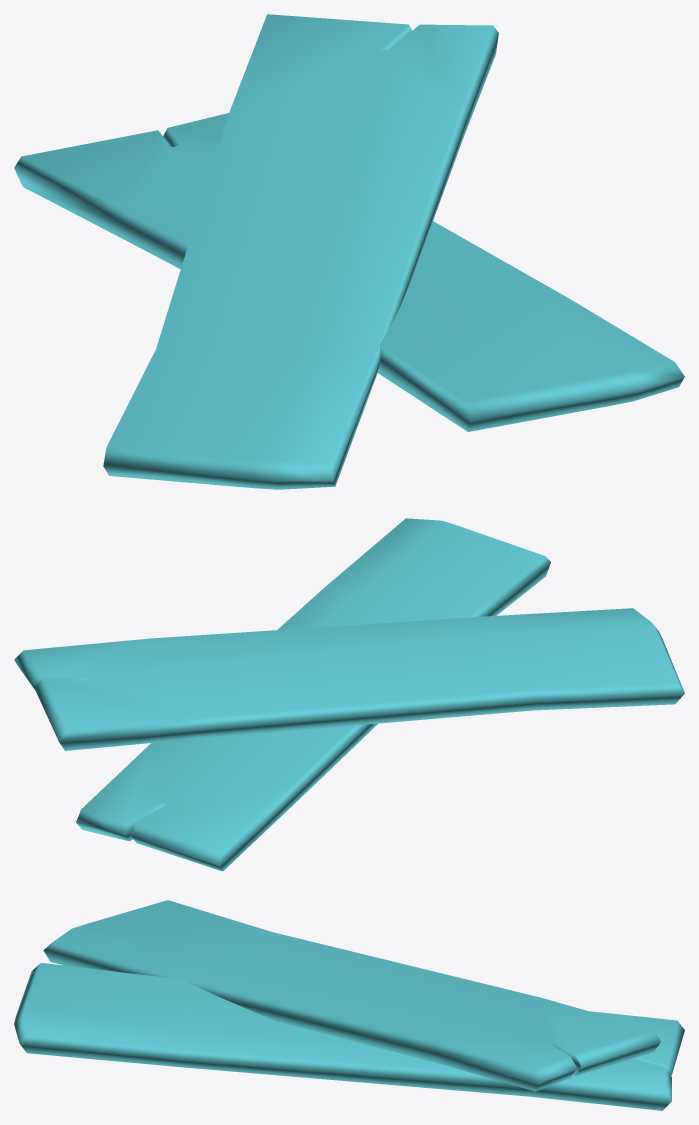
The model's file is Cupboard_10A_Break_Lod0.fbx.
The picture shows the model from 3 angles, top to bottom: view 1: azimuth 30°, elevation 25°; view 2: azimuth 150°, elevation 25°; view 3: azimuth 270°, elevation 25°; orthographic projection. The views are drawn at different scales.
Parts seen in each view (by area): view 1: Cupboard_10A_Break_Lod0; view 2: Cupboard_10A_Break_Lod0; view 3: Cupboard_10A_Break_Lod0.
Boxes of the visible parts, x1,y1,x2,y2 form: Cupboard_10A_Break_Lod0: (14,14,684,489); Cupboard_10A_Break_Lod0: (14,518,684,871); Cupboard_10A_Break_Lod0: (14,900,684,1110).
Bounding box in the file's own units: 120 × 24.69 × 148.
